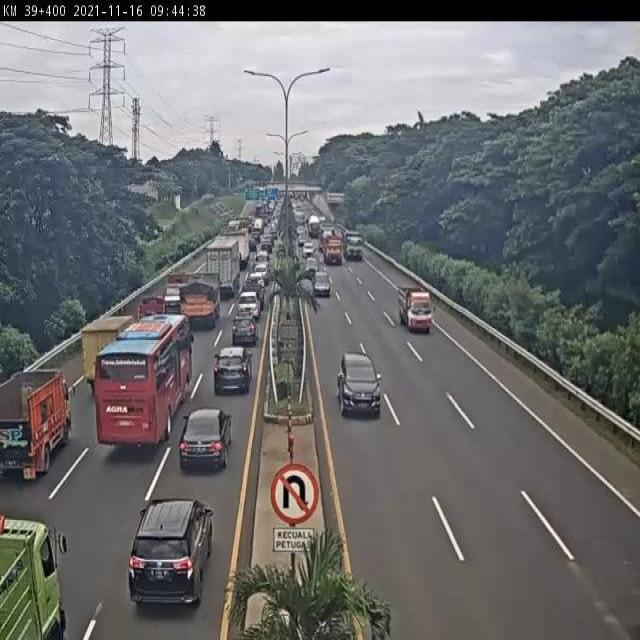ARABA: (128, 499, 211, 604), (178, 412, 229, 473), (336, 351, 381, 413), (213, 348, 252, 396), (232, 316, 255, 347), (237, 291, 259, 321), (242, 284, 265, 307), (312, 271, 332, 297), (247, 270, 266, 290)
KAMYONET: (0, 371, 72, 484), (81, 316, 133, 385), (179, 276, 220, 329), (397, 281, 432, 335), (161, 273, 191, 312), (129, 295, 159, 332)
OTOBUS: (96, 316, 194, 448)
TIR: (201, 242, 241, 298)
